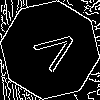V: (25, 25, 82, 79)
